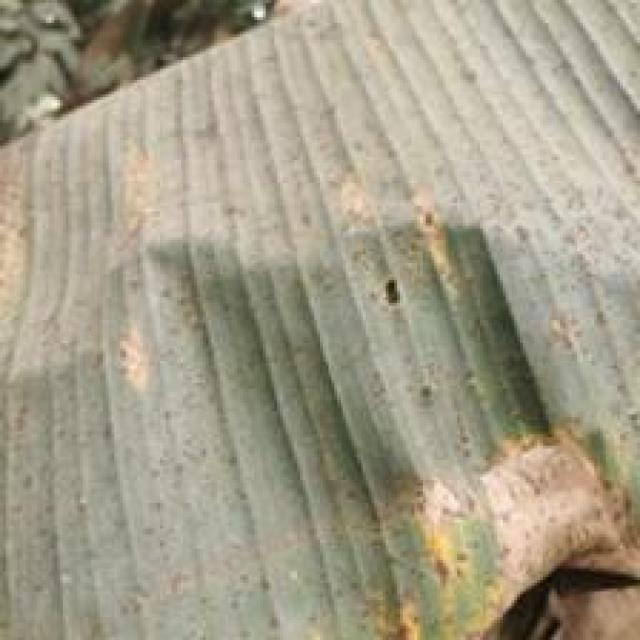Downey_mildrew: (331, 156, 640, 640), (105, 138, 215, 404)
